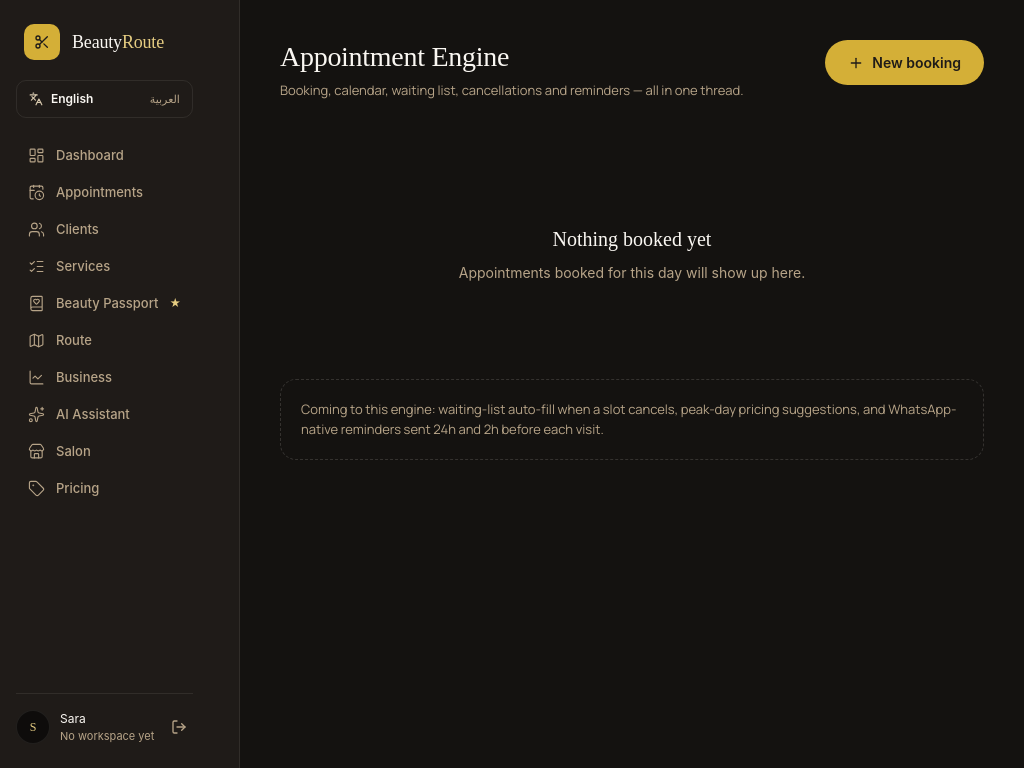
Test: Appointments page › requires a client, date, and time before booking
Expected: the text "Nothing booked yet" is shown, [553,224,712,254]
Click the button "New booking".
click(905, 62)  # box [825,40,984,85]
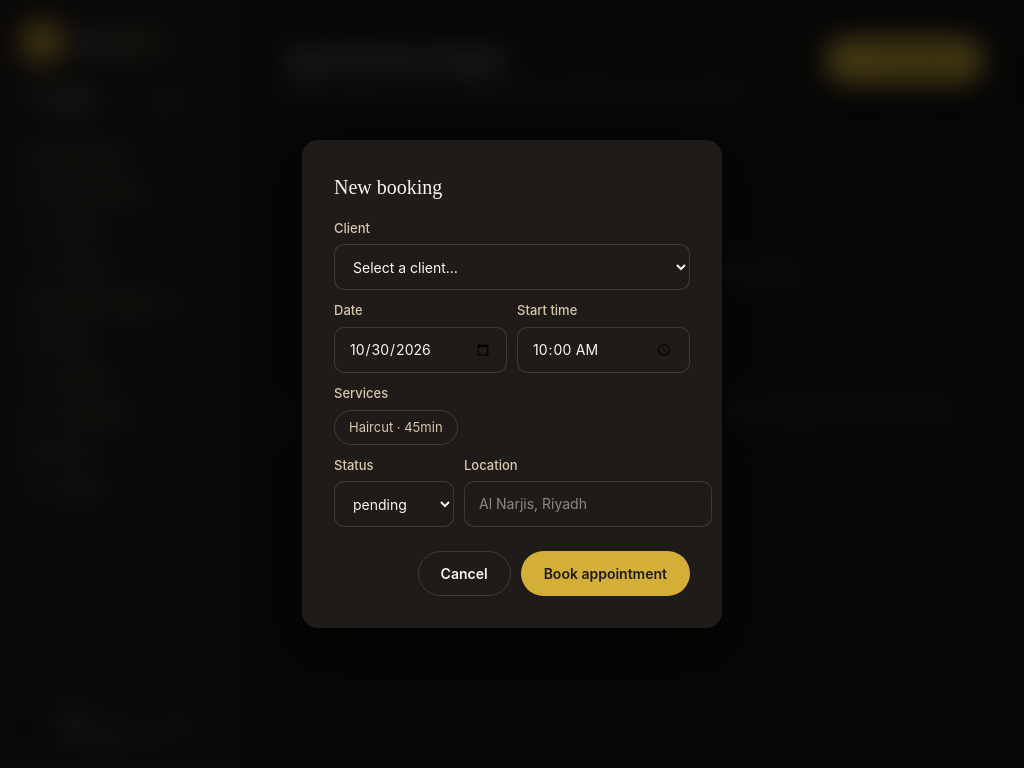
Now the heading "New booking" is shown, box [334,176,442,198]
# Clear the date field, leave client unselected.
Clear the date field labelled "Date" at (420, 350), box [349,339,492,361]
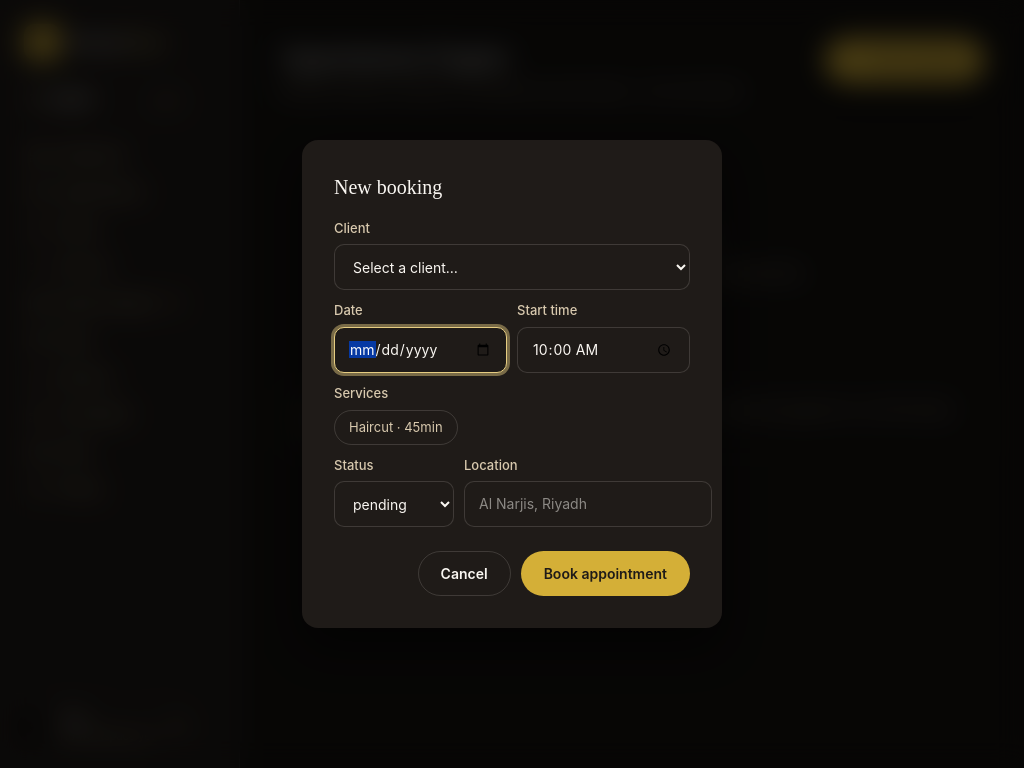
Click the button "Book appointment".
click(605, 574)  # box [521,552,690,596]
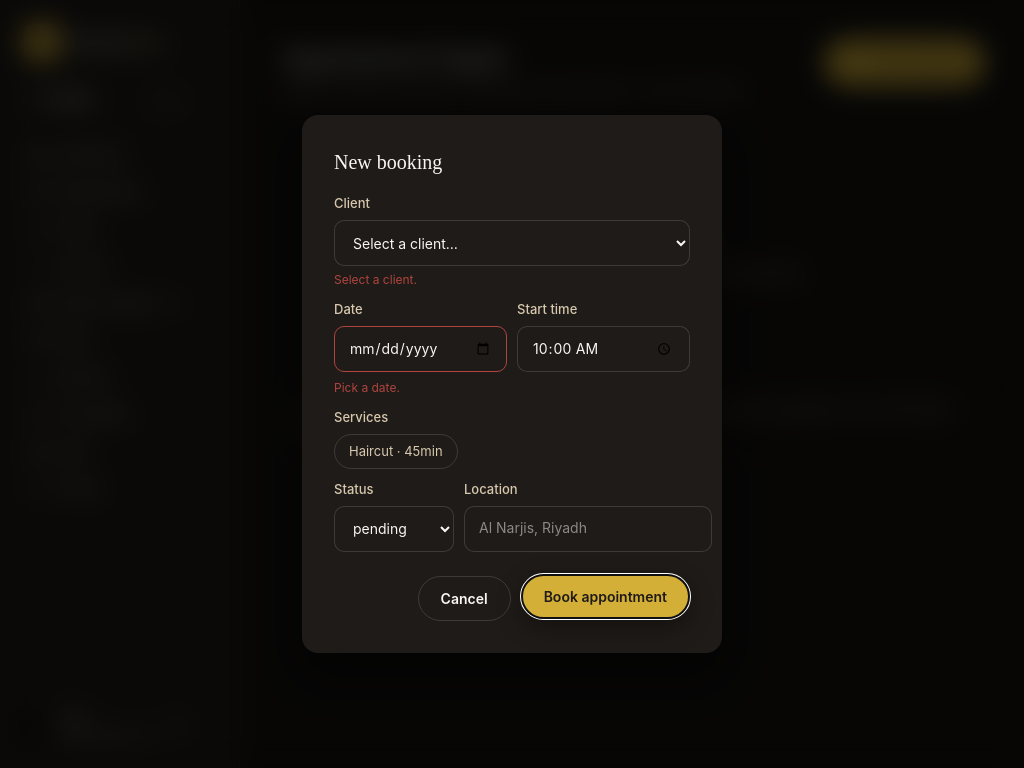
Now the text "Select a client." is shown, box [334,272,417,287]
Now the text "Pick a date." is shown, box [334,380,400,395]
